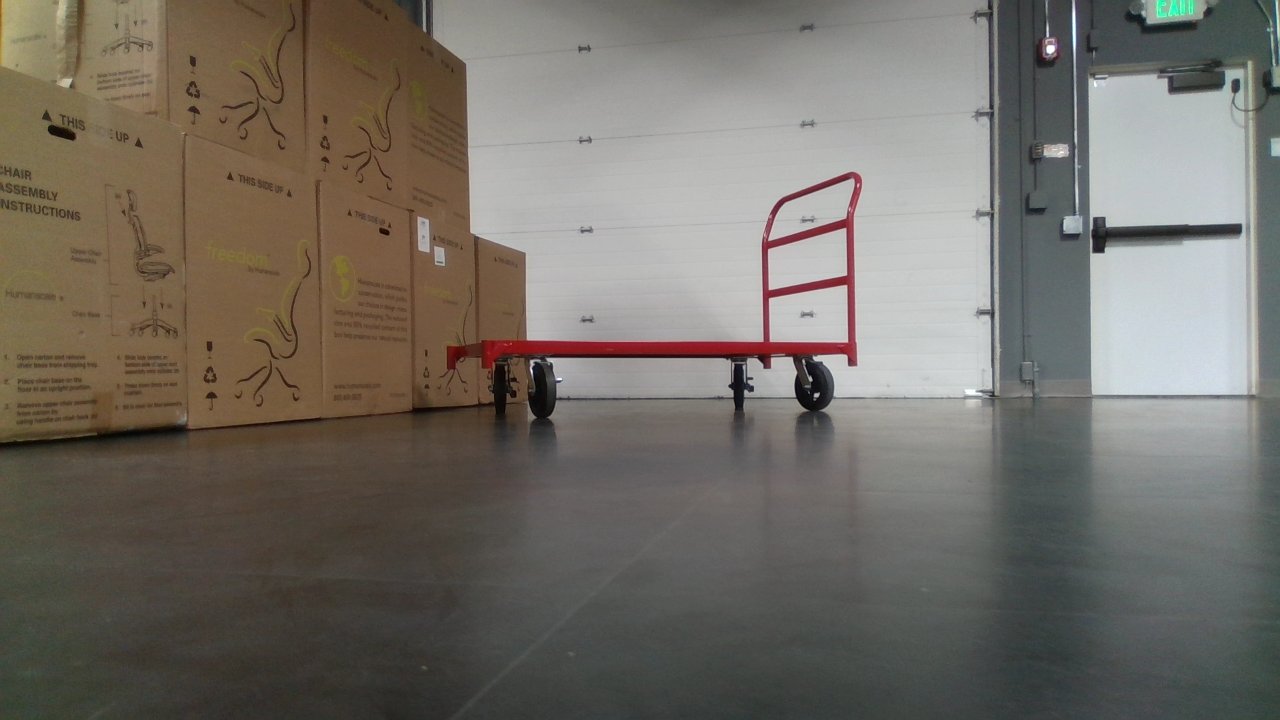Dolly: (444, 165, 870, 427)
Wheel: (788, 360, 839, 412), (718, 358, 759, 415), (529, 358, 563, 426), (490, 360, 519, 422)
